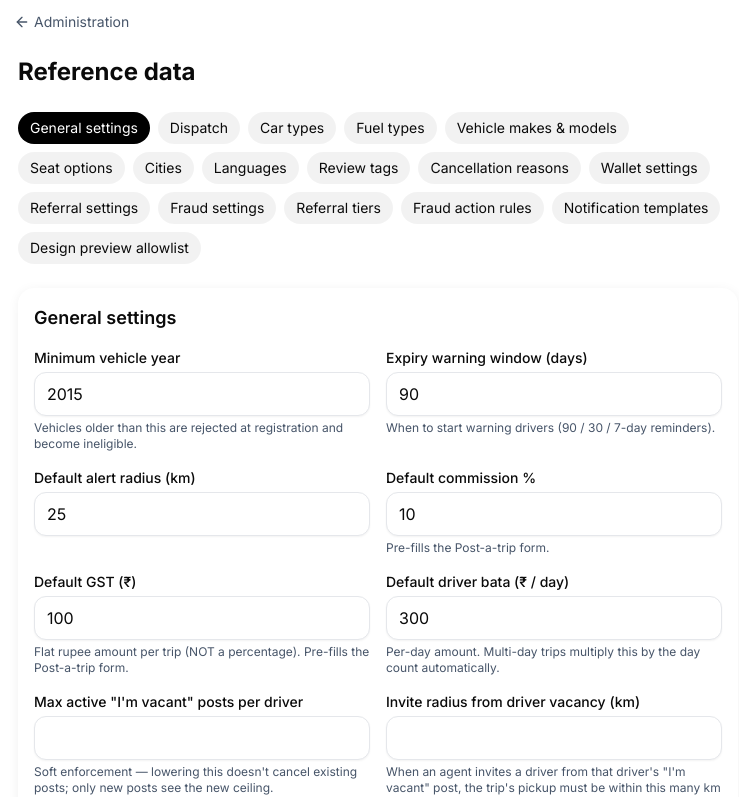
Scenario: AdminConfigPage › Vehicle makes & models section renders the master-detail (empty state)
What coordinates should you click on to do the following:
click the button "Vehicle makes & models"
I would click on:
 (537, 128)
Its box is [445,112,629,144].
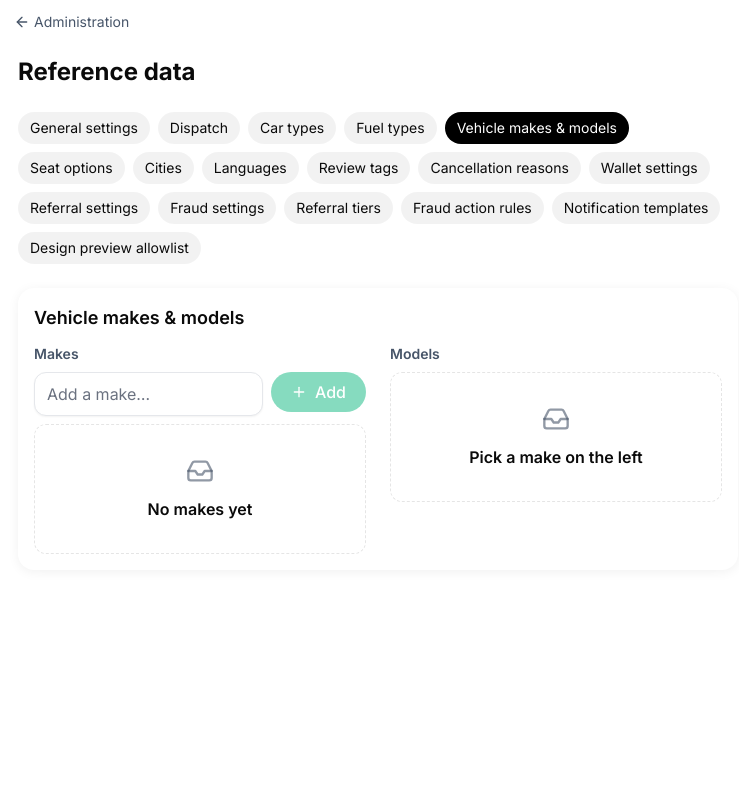
Check: the heading "Vehicle makes & models" is shown, box [34,307,244,328]
Check: the text "No makes yet" is shown, box [148,497,252,521]
Check: the text "Pick a make on the left" is shown, box [469,445,643,469]
